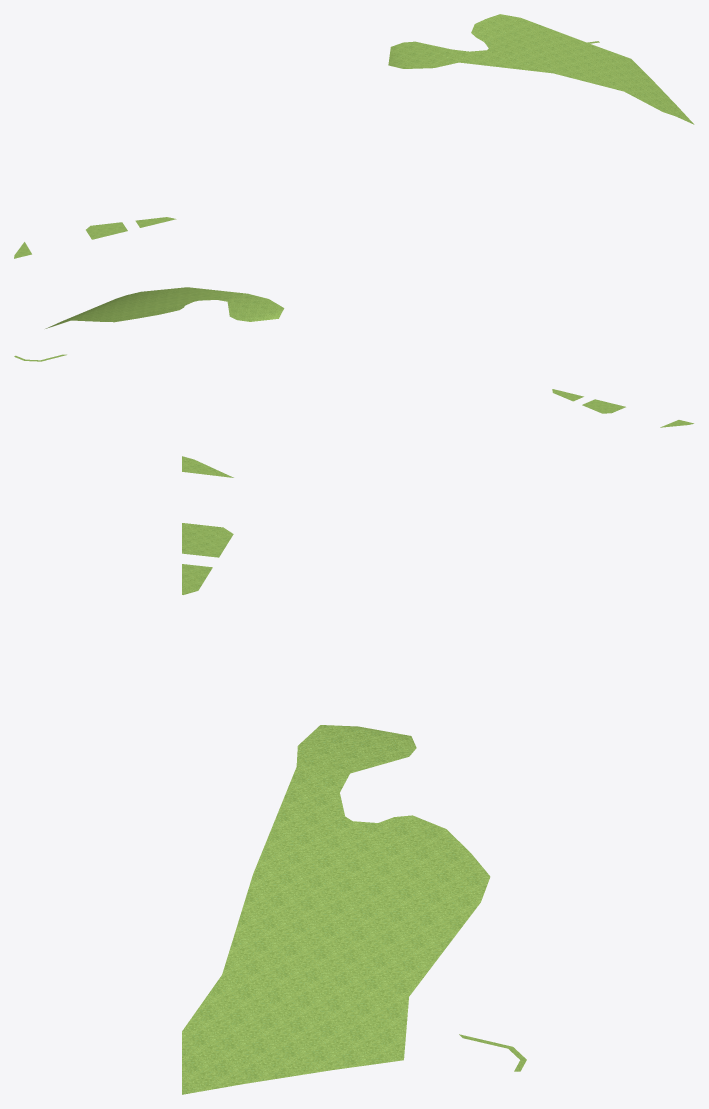
The model's file is kd_stage_1364a3_4_1_bounded.glb.
The picture shows the model from 3 angles, top to bottom: view 1: azimuth 30°, elevation 25°; view 2: azimuth 150°, elevation 25°; view 3: azimuth 270°, elevation 25°; orthographic projection. The views are drawn at different scales.
Visible parts, largest first — view 1: kd_stage_1364a3_4_1_bounded; view 2: kd_stage_1364a3_4_1_bounded; view 3: kd_stage_1364a3_4_1_bounded.
Boxes of the visible parts, x1,y1,x2,y2 form: kd_stage_1364a3_4_1_bounded: (14,14,694,258); kd_stage_1364a3_4_1_bounded: (14,287,693,427); kd_stage_1364a3_4_1_bounded: (182,456,526,1094).
Bounding box in the file's own units: 270 × 33.56 × 67.77.
1 material, 1 textured.
